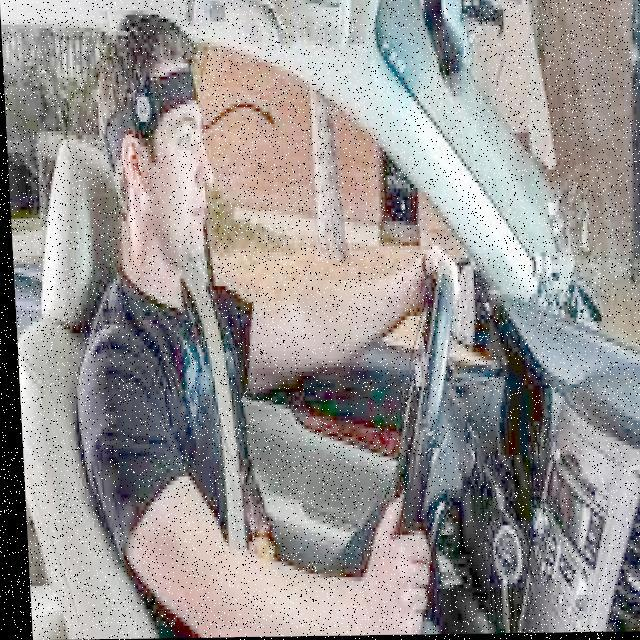seatbelt: (121, 262, 257, 592)
